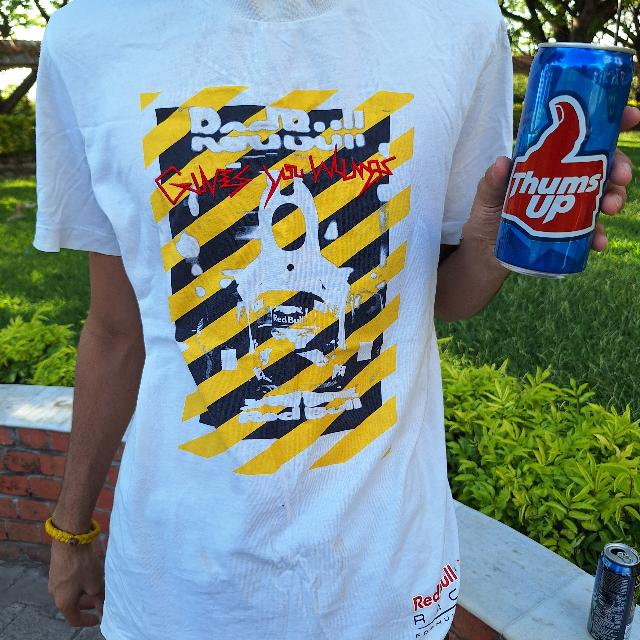Thums Up: (496, 41, 634, 280)
